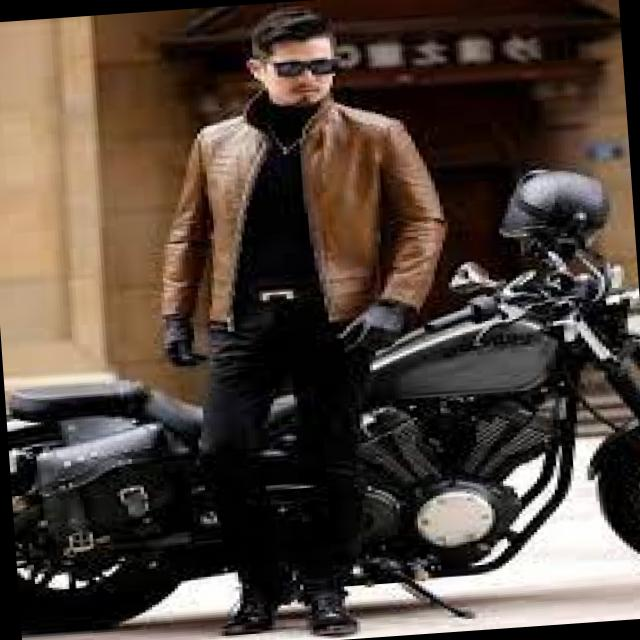Jacket: (102, 82, 470, 410)
